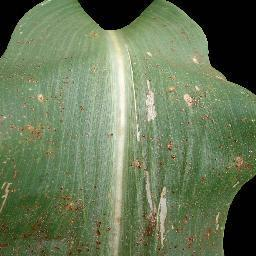Corn_Common_Rust: (0, 80, 119, 256), (127, 130, 256, 256), (2, 54, 106, 81), (137, 48, 180, 77), (167, 83, 210, 111), (140, 76, 158, 126), (8, 36, 35, 49), (187, 52, 209, 67), (82, 27, 102, 43)
